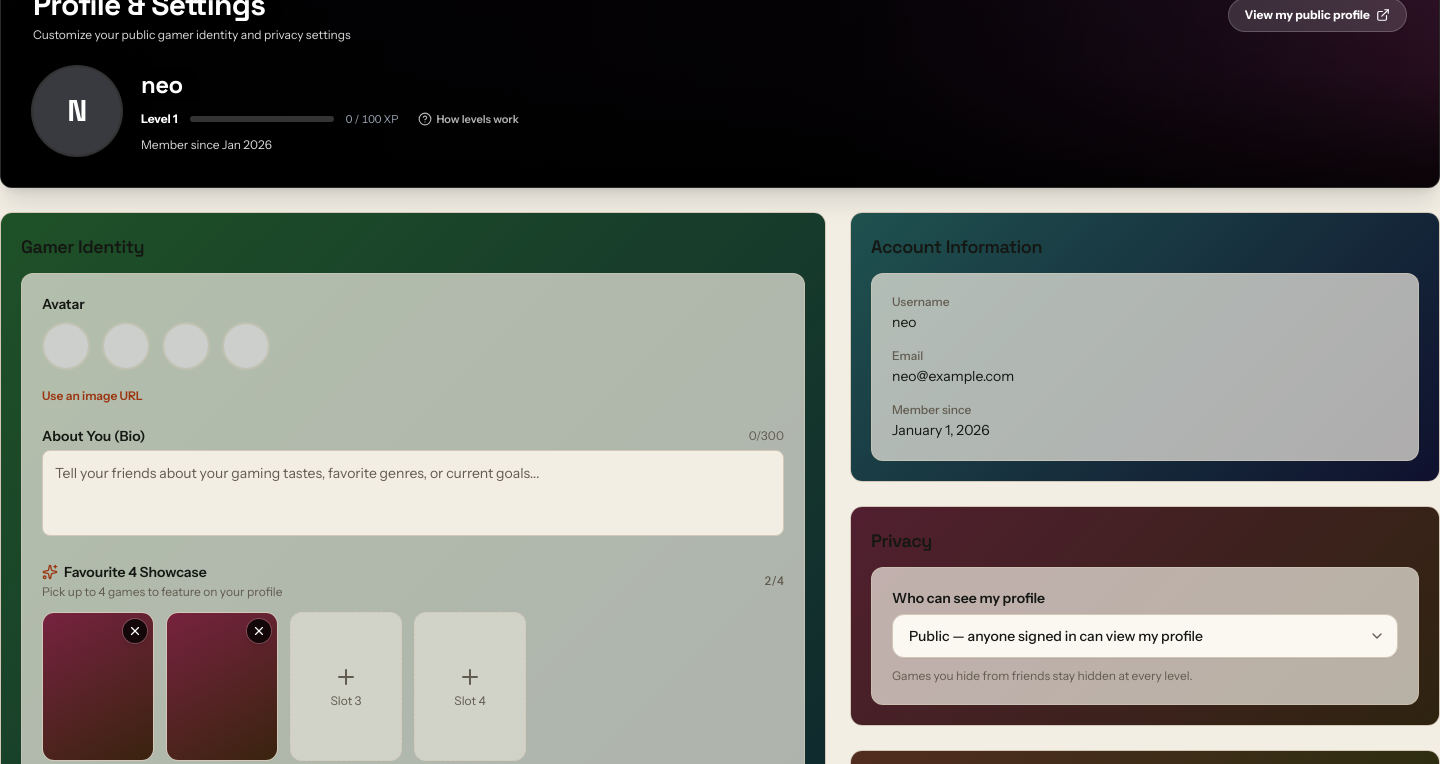
Profile: Favourite 4 editor › a game that is already a favourite cannot be picked again, and the catalog search works from the picker
Click the button with aria-label "Add favourite game 3" at (346, 687), box [290,612,402,761]
(page scrolled)
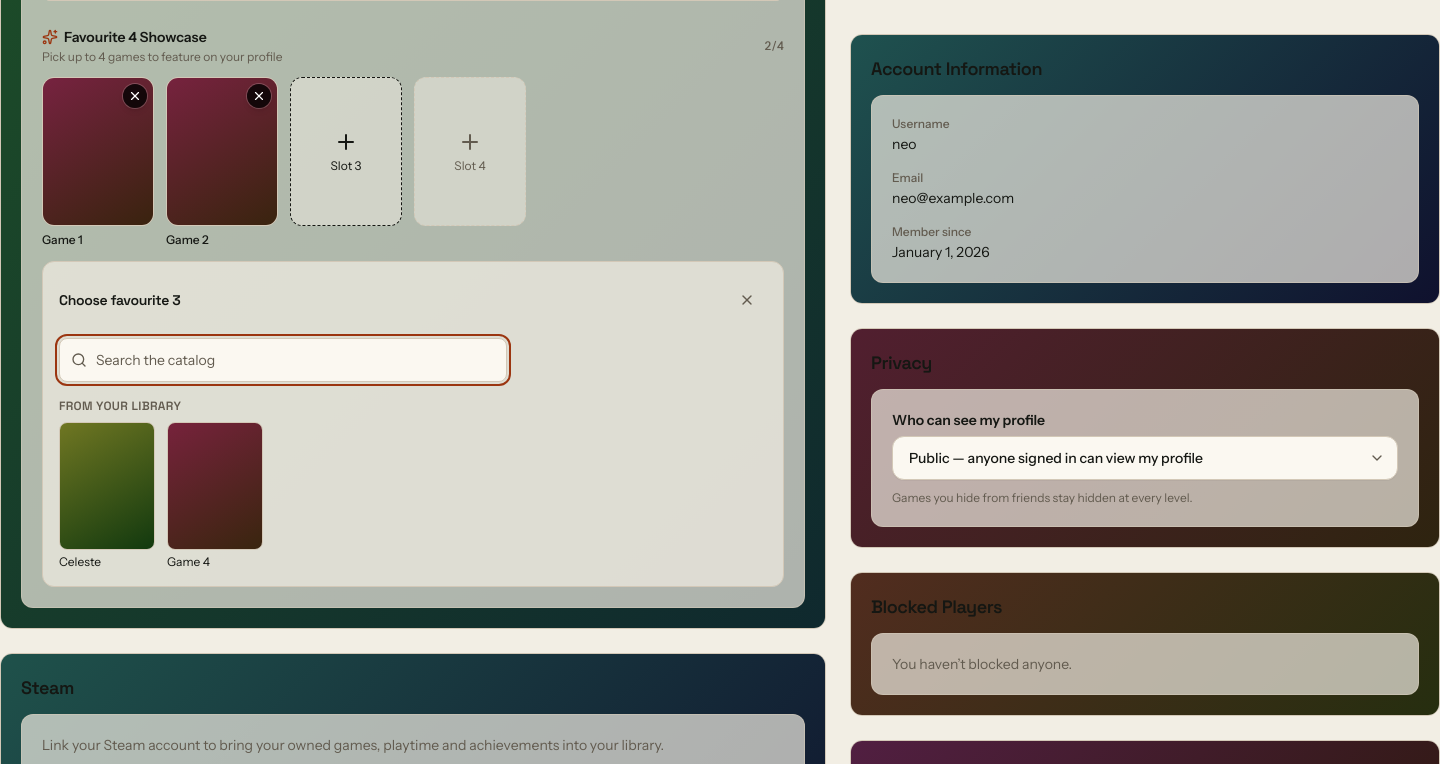
Type "had" into the search field at (283, 360), box [59,338,507,382]
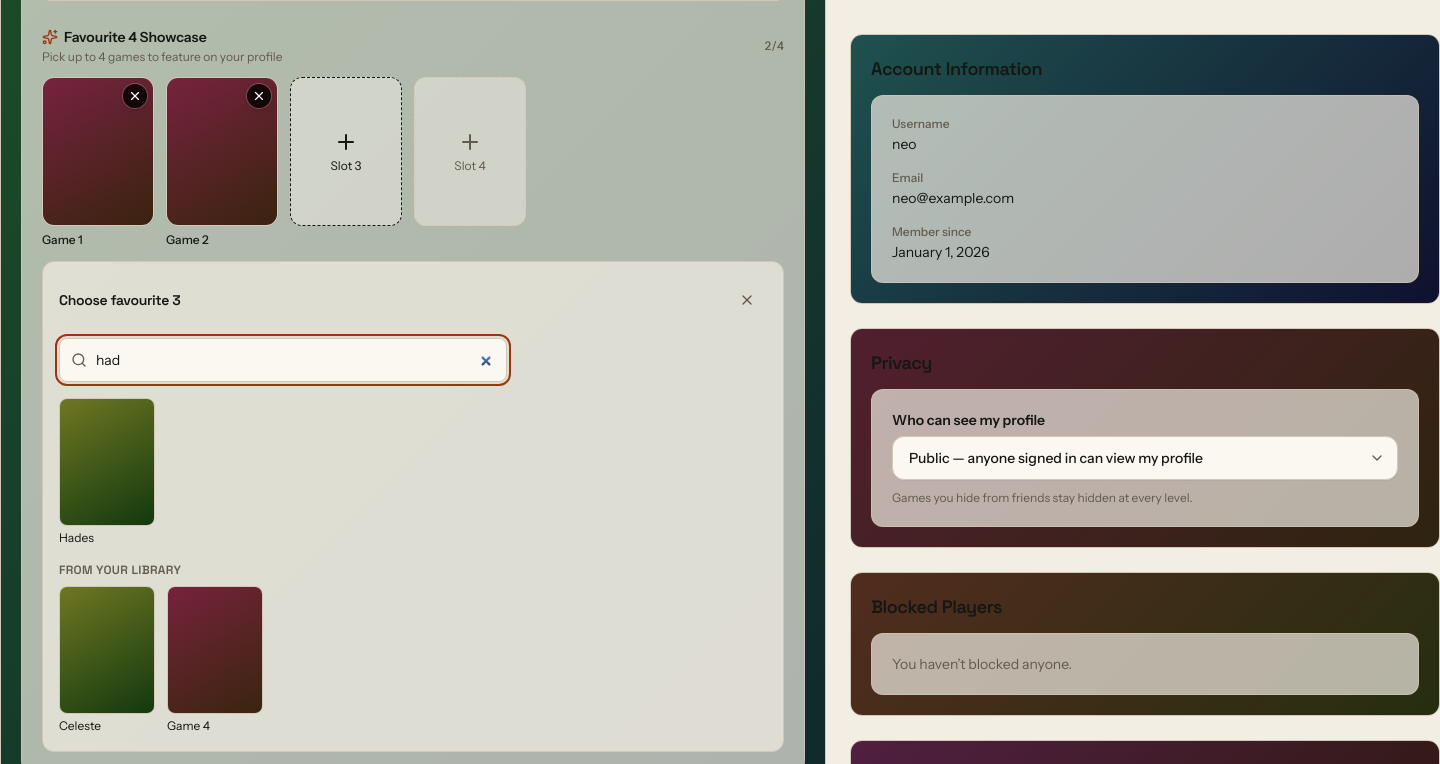
Click the button "Hades" at (107, 472), box [59,398,155,546]
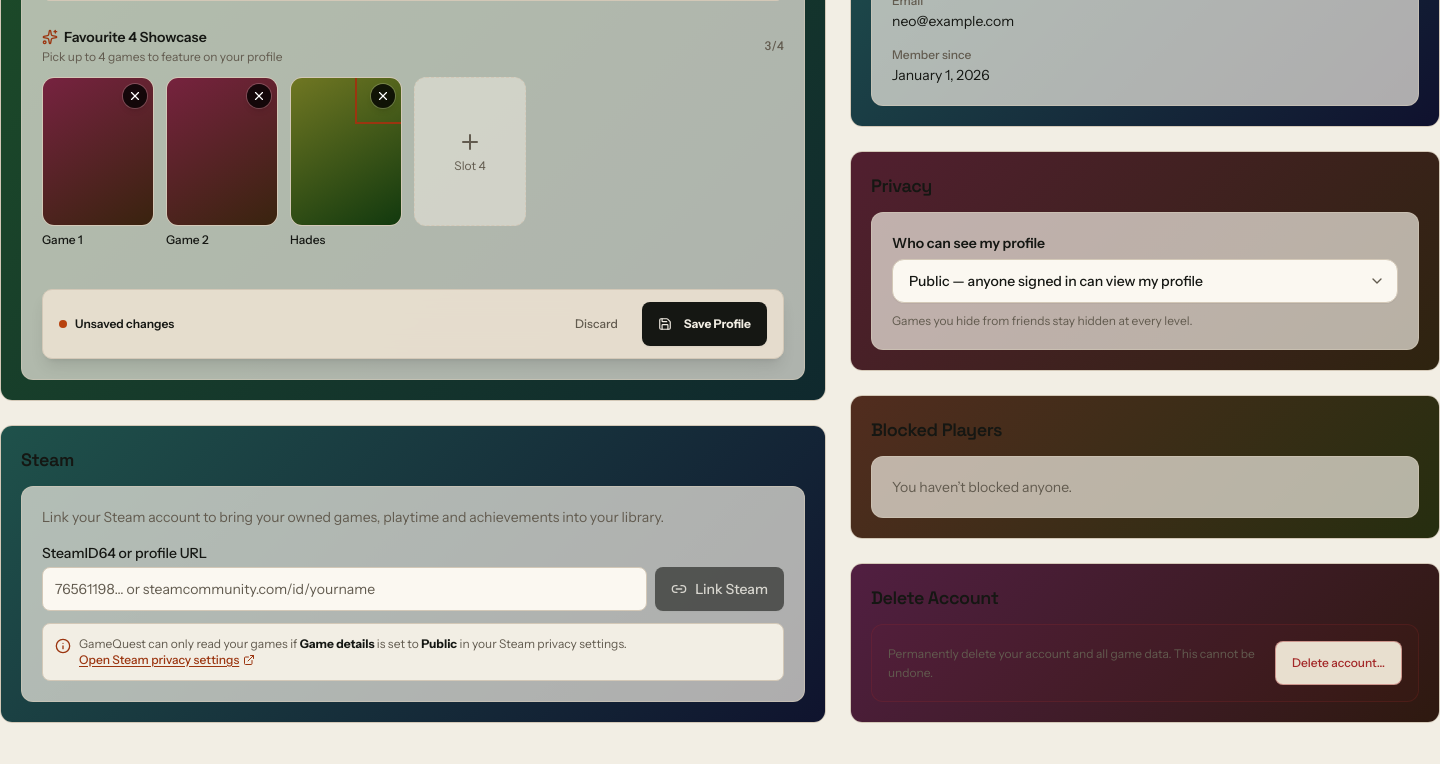
Expected: the text "Hades" is shown, [290,232,325,247]
// slot 4: Hades is now disabled in the picker
Click the button with aria-label "Add favourite game 4" at (470, 152), box [414,77,526,226]
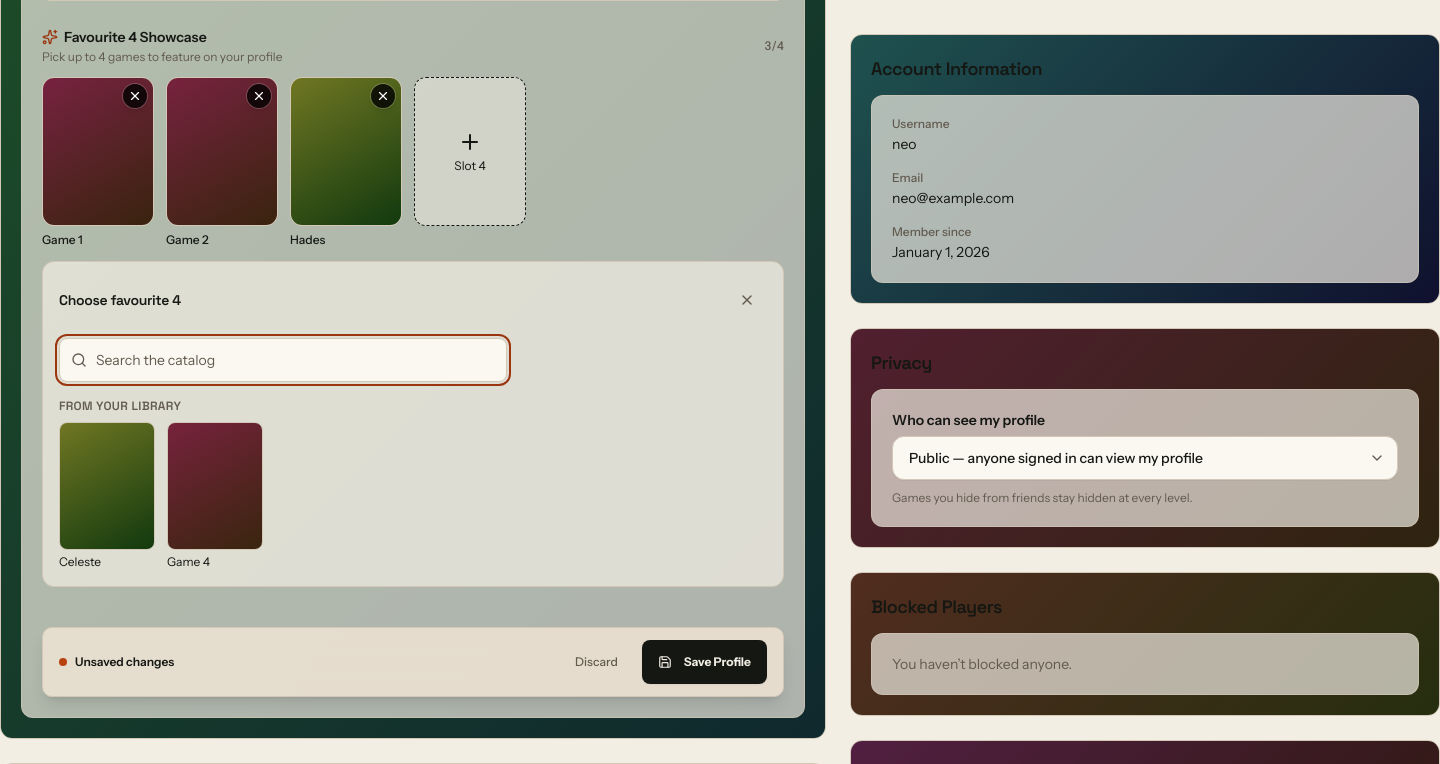
Type "had" into the search field at (283, 360), box [59,338,507,382]
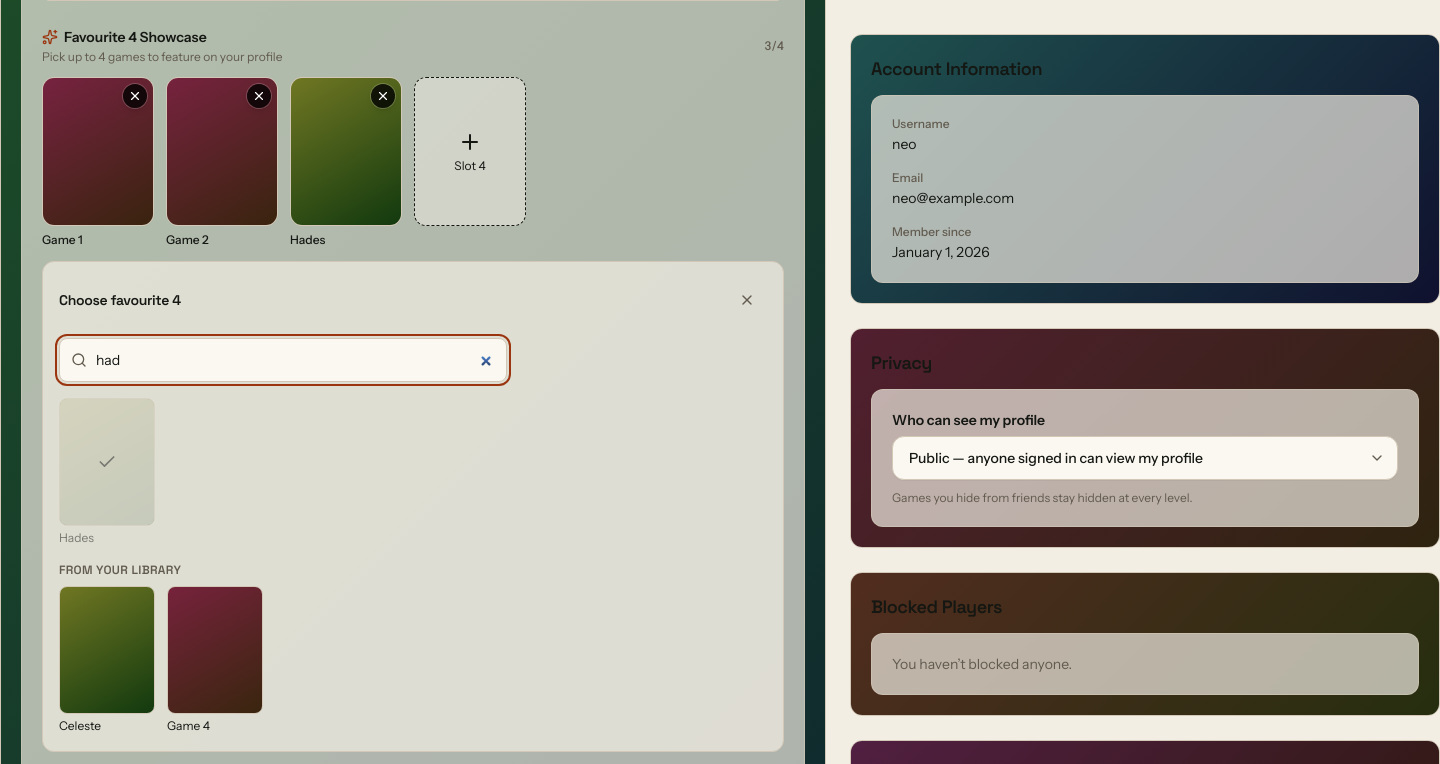
Expected: the button with aria-label "Hades (already a favourite)" is disabled, [59,398,155,546]
